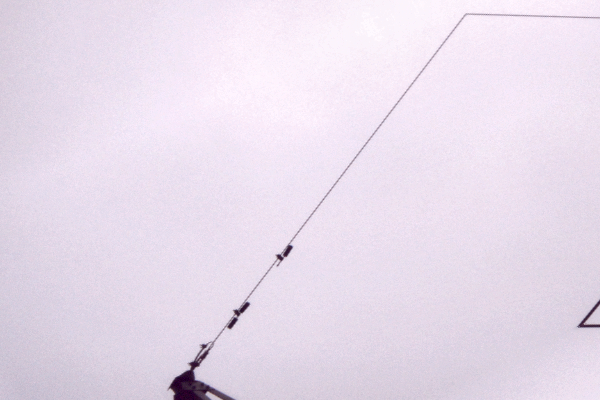damper: (225, 300, 249, 331)
damper_defect: (273, 243, 293, 270)
